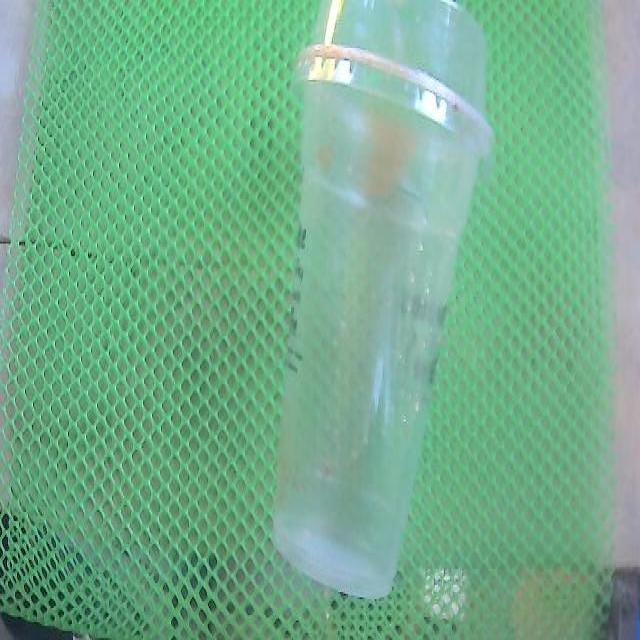bottle: (274, 64, 488, 597)
